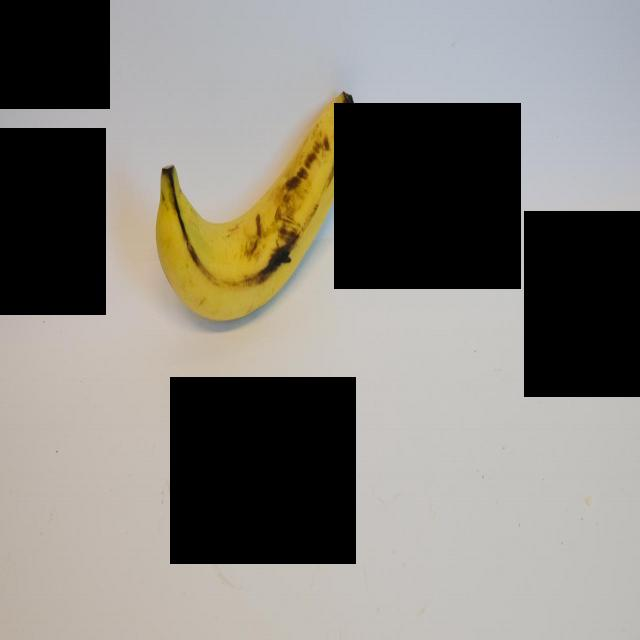banana: (152, 74, 357, 334)
